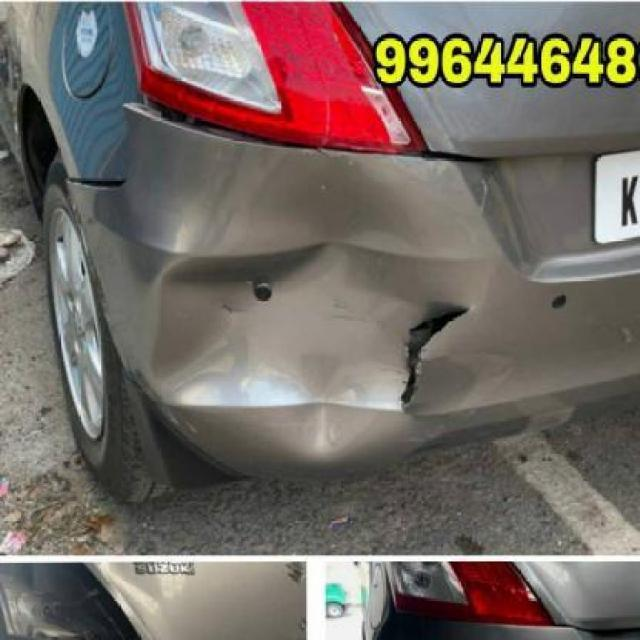dent: (146, 246, 491, 457)
